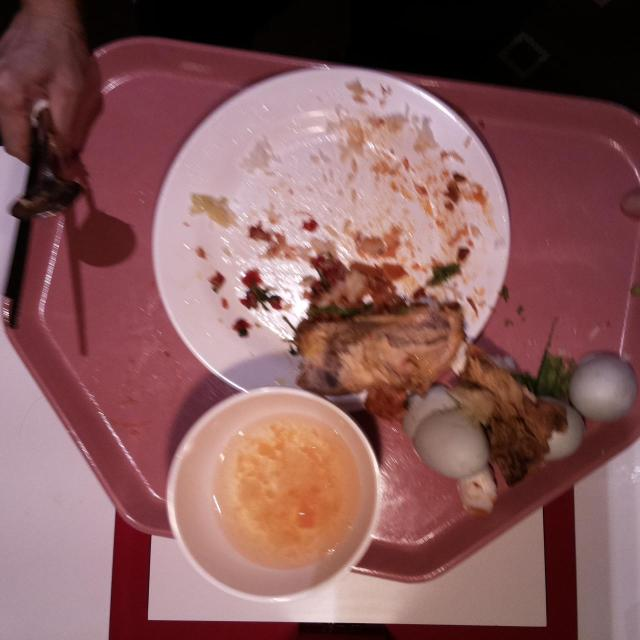Bone: (296, 304, 460, 392), (462, 348, 560, 440)
Egg-shell: (398, 396, 489, 480), (568, 354, 637, 424), (540, 402, 586, 464)
Vegetable: (521, 349, 569, 399)
